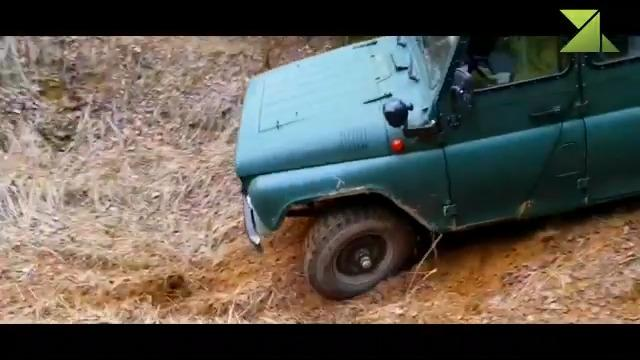MIL_HMMWV: (237, 33, 640, 301)
